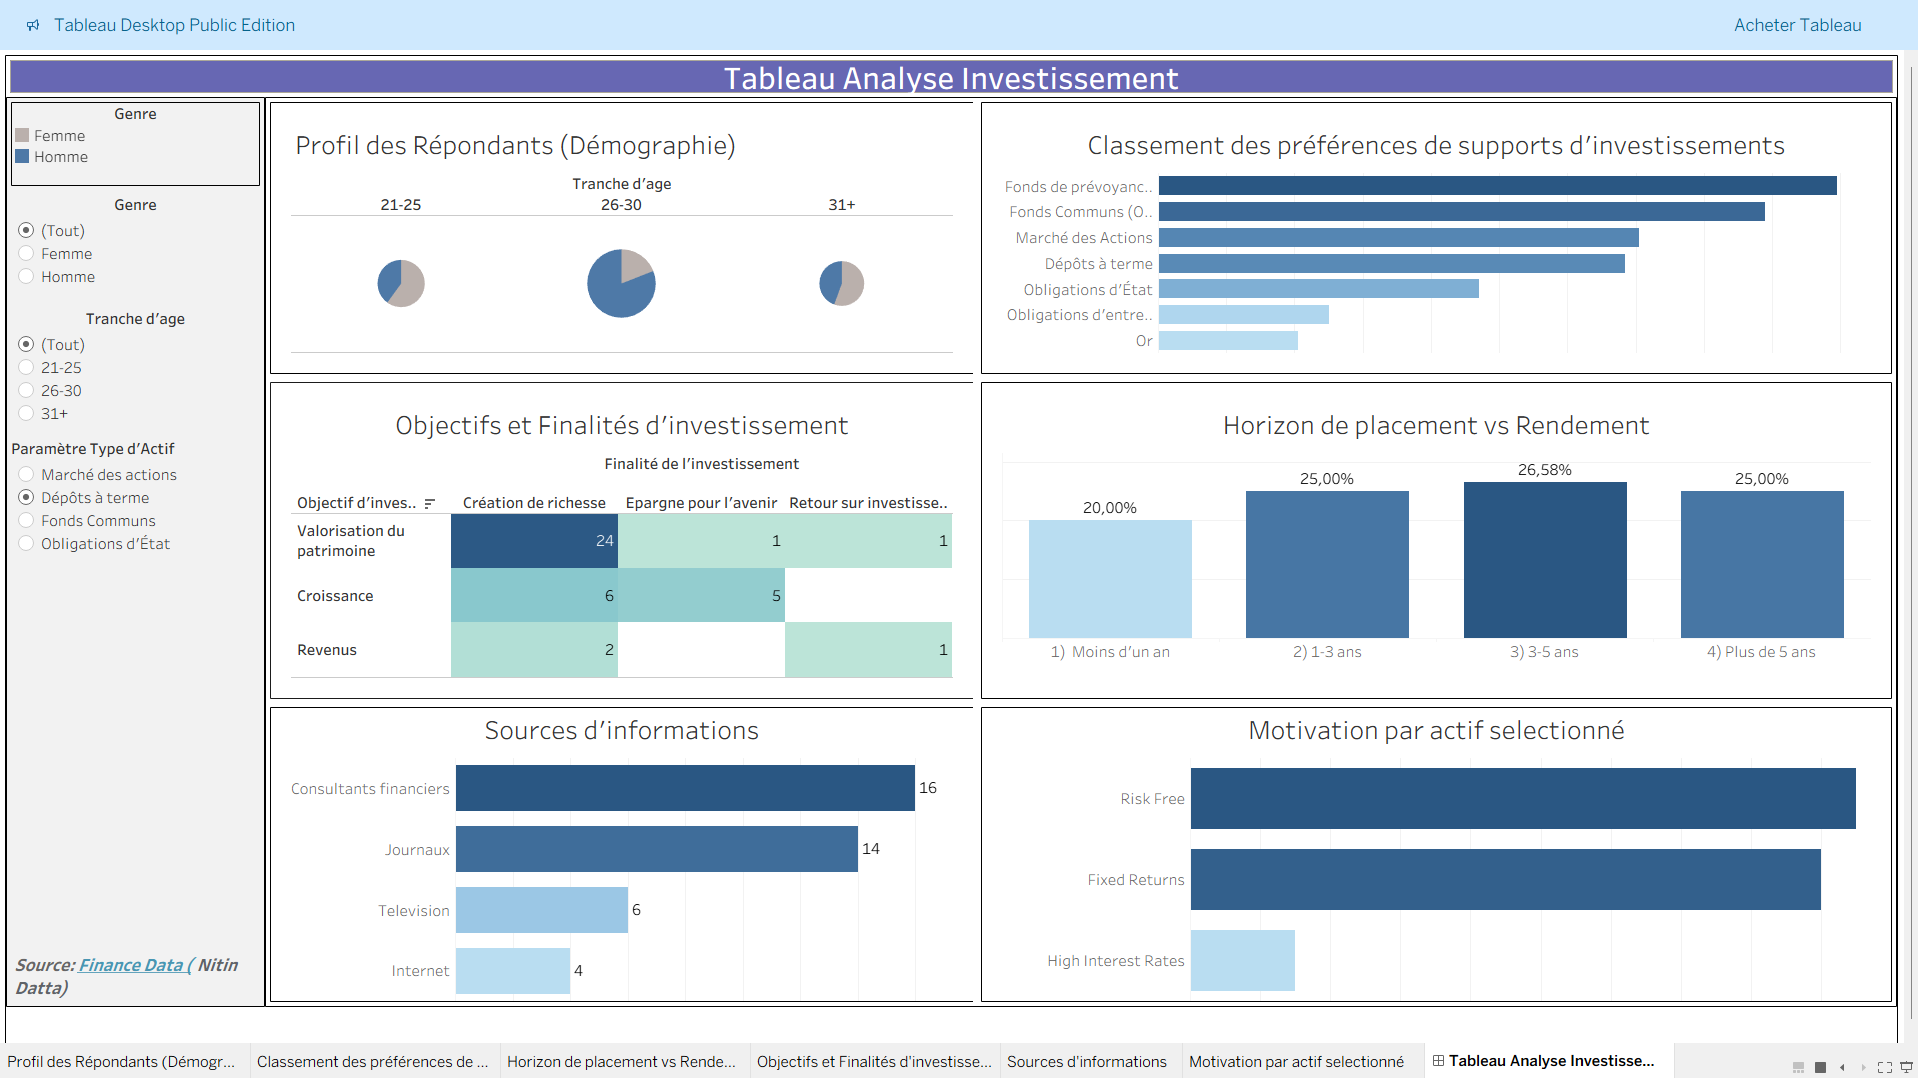

This screenshot's page, from the dashboard's own definition file:
{"tool":"tableau","page":{"name":"Tableau Analyse Investissement","canvas":[1000,1000],"units":"permille","ordinal":0},"visuals":[{"type":"title","box":[3.6,6,992.8,41]},{"type":"legend","title":"Profil des Répondants (Démographie)","param":"[federated.0vga9np0jmfuvq1dzznn71mjiakj].[none:gender:nk]","box":[4.2,48,134.7,92]},{"type":"worksheet","title":"Profil des Répondants (Démographie)","mark":"Pie","box":[140.1,48,373.6,280]},{"type":"worksheet","title":"Classement des préférences de supports d'investissements","mark":"Automatic","box":[513.6,48,482.2,280]},{"type":"filter","title":"Profil des Répondants (Démographie)","param":"[federated.0vga9np0jmfuvq1dzznn71mjiakj].[none:gender:nk]","box":[4.2,140,134.7,114]},{"type":"filter","title":"Profil des Répondants (Démographie)","param":"[federated.0vga9np0jmfuvq1dzznn71mjiakj].[age (groupe)]","box":[4.2,254,134.7,130]},{"type":"worksheet","title":"Objectifs et Finalités d'investissement","mark":"Square","rows":["Objective"],"cols":["Purpose"],"box":[140.1,328,373.6,325]},{"type":"worksheet","title":"Horizon de placement vs Rendement","mark":"Automatic","rows":["Calculation_0829610861613059"],"cols":["Duration"],"box":[513.6,328,482.2,325]},{"type":"parameter","param":"[Parameters].[Paramètre 1]","box":[4.2,384,134.7,146]},{"type":"blank","box":[4.2,530,134.7,160]},{"type":"worksheet","title":"Sources d'informations","mark":"Automatic","rows":["Source"],"cols":["Finance_data.csv_EFC416ADCBF6429BAA9BFE6C6172FC92"],"box":[140.1,653,373.6,302.6]},{"type":"worksheet","title":"Motivation par actif selectionné","mark":"Automatic","rows":["Calculation_0829610882134029"],"cols":["Calculation_0829610882134029"],"box":[513.6,653,482.2,302.6]},{"type":"text","box":[4.2,690,134.7,72]}]}

Visuals, with their boxes on the dashboard's canvas, which has no fixed pixel size, in thousandths of its width and height (x1, y1, x2, y2). These are canvas units, not pixel positions in the 1918x1078 screenshot, which may show the page scaled, cropped or inside an application window:
title: [x1=4, y1=6, x2=996, y2=47]
"Profil des Répondants (Démographie)" legend: [x1=4, y1=48, x2=139, y2=140]
"Profil des Répondants (Démographie)" worksheet (Pie marks): [x1=140, y1=48, x2=514, y2=328]
"Classement des préférences de supports d'investissements" worksheet: [x1=514, y1=48, x2=996, y2=328]
"Profil des Répondants (Démographie)" filter: [x1=4, y1=140, x2=139, y2=254]
"Profil des Répondants (Démographie)" filter: [x1=4, y1=254, x2=139, y2=384]
"Objectifs et Finalités d'investissement" worksheet (Square marks): [x1=140, y1=328, x2=514, y2=653]
"Horizon de placement vs Rendement" worksheet: [x1=514, y1=328, x2=996, y2=653]
parameter: [x1=4, y1=384, x2=139, y2=530]
blank: [x1=4, y1=530, x2=139, y2=690]
"Sources d'informations" worksheet: [x1=140, y1=653, x2=514, y2=956]
"Motivation par actif selectionné" worksheet: [x1=514, y1=653, x2=996, y2=956]
text: [x1=4, y1=690, x2=139, y2=762]
